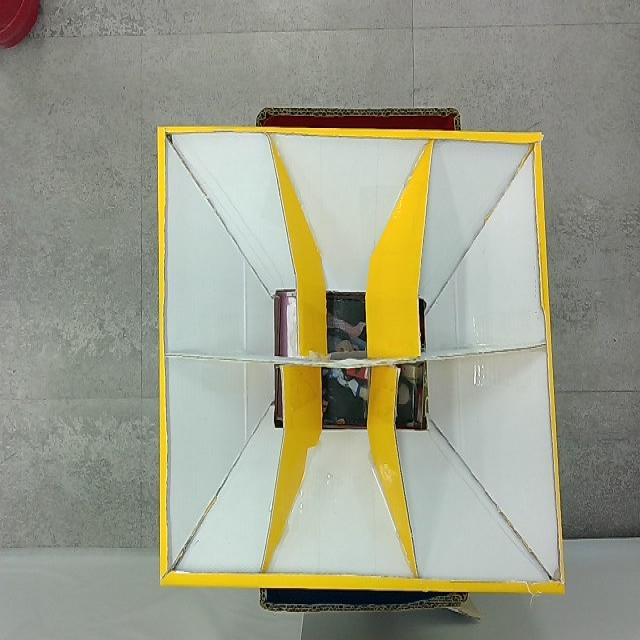box: (157, 105, 566, 611)
